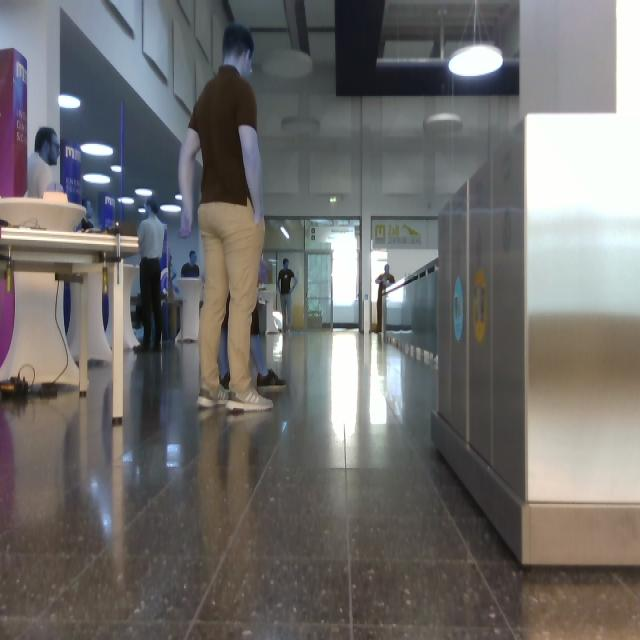door: (306, 220, 359, 326)
light bulb: (449, 1, 503, 77), (449, 44, 504, 77), (263, 50, 312, 80), (81, 144, 113, 156), (59, 94, 81, 108), (44, 192, 67, 204), (84, 174, 110, 184), (135, 189, 153, 197), (161, 205, 181, 212), (118, 197, 134, 205), (281, 226, 289, 240), (111, 166, 122, 173), (139, 206, 146, 213), (175, 194, 181, 201)
person: (179, 25, 273, 412), (136, 197, 165, 352), (26, 127, 61, 199), (277, 260, 298, 332)
table: (1, 228, 139, 425), (1, 270, 79, 386), (1, 194, 85, 232)
tiled floor: (1, 332, 640, 640)
trash bin: (432, 114, 640, 566)
